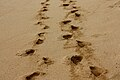human_foot_print: (64, 54, 107, 79), (64, 53, 91, 79), (70, 64, 105, 79), (37, 56, 54, 72), (89, 66, 108, 79), (15, 71, 45, 79), (65, 11, 84, 22), (32, 32, 45, 46), (60, 24, 82, 32), (16, 48, 35, 56), (38, 57, 53, 66), (60, 0, 75, 9), (65, 9, 78, 17), (58, 32, 72, 39), (109, 0, 119, 7), (34, 38, 43, 45), (59, 19, 71, 24), (62, 34, 72, 39), (37, 31, 46, 36), (41, 0, 49, 4)
